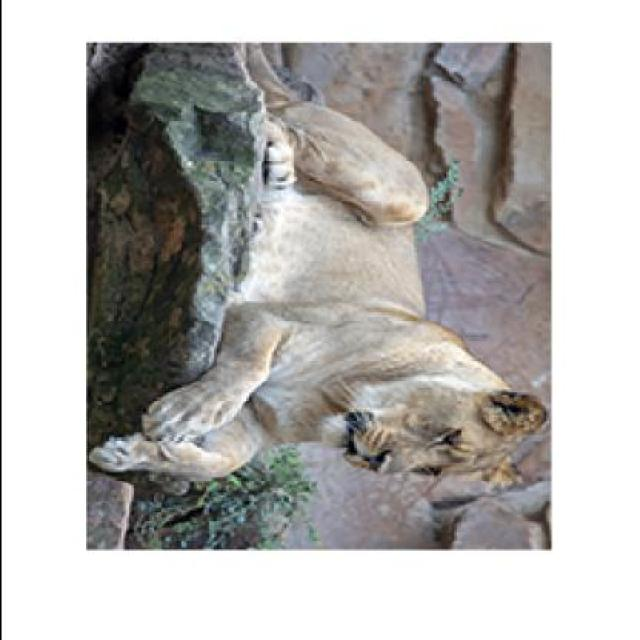Lion: (32, 40, 537, 498)
